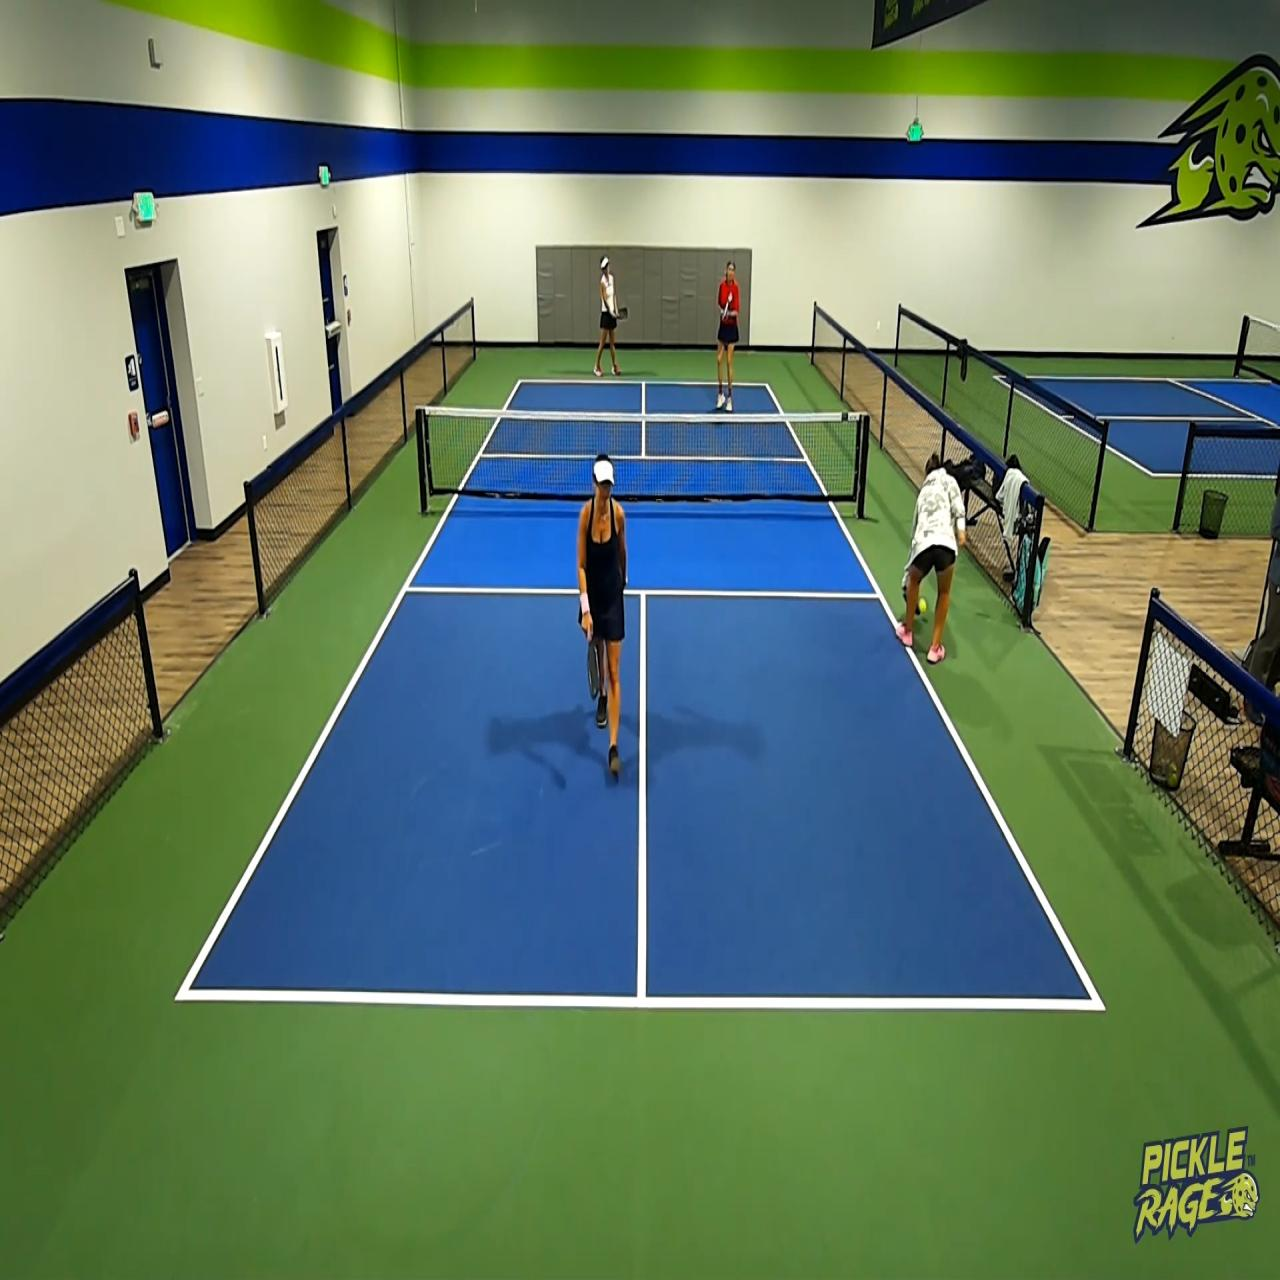Pickleball: (918, 594, 931, 619)
